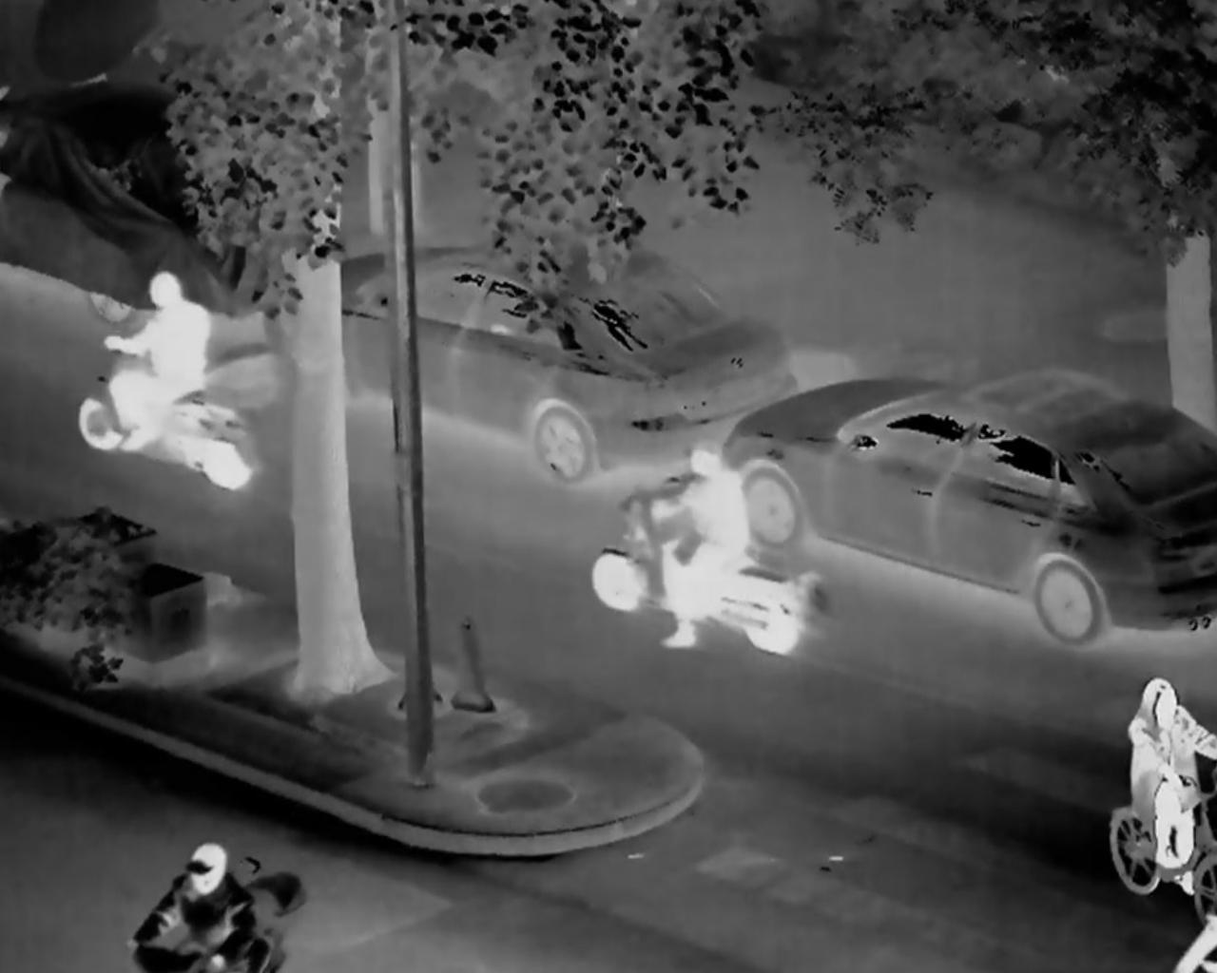person: (622, 429, 763, 672), (99, 264, 220, 462), (1112, 667, 1217, 887), (135, 836, 271, 973)
